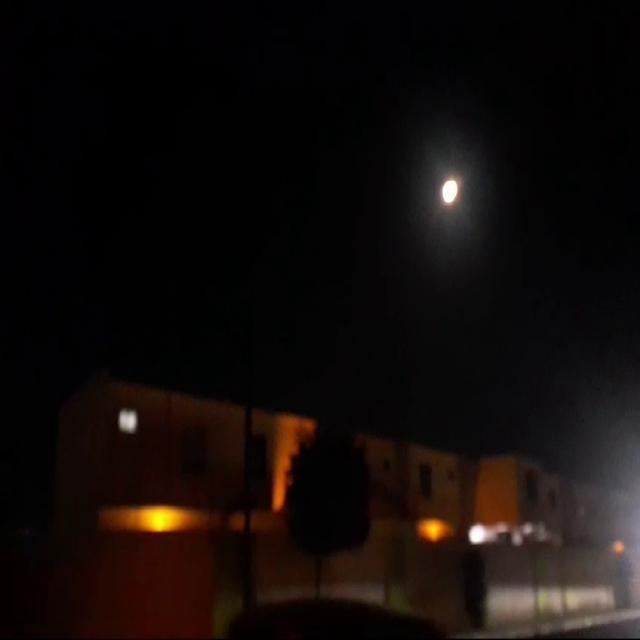moon: (453, 168, 472, 202)
